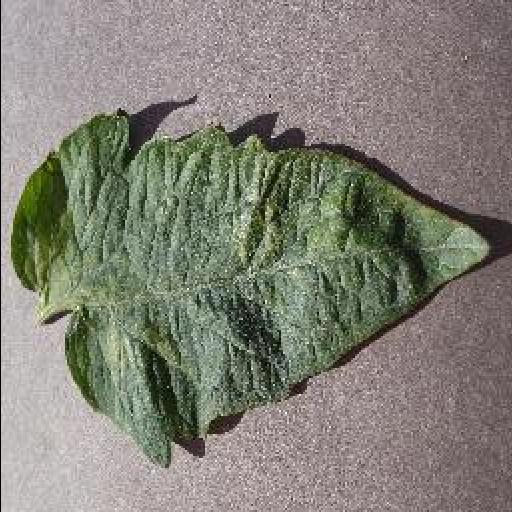disease_tomato: (8, 112, 490, 468)
